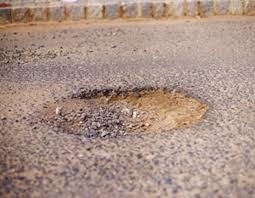pothole: (27, 75, 219, 146)
